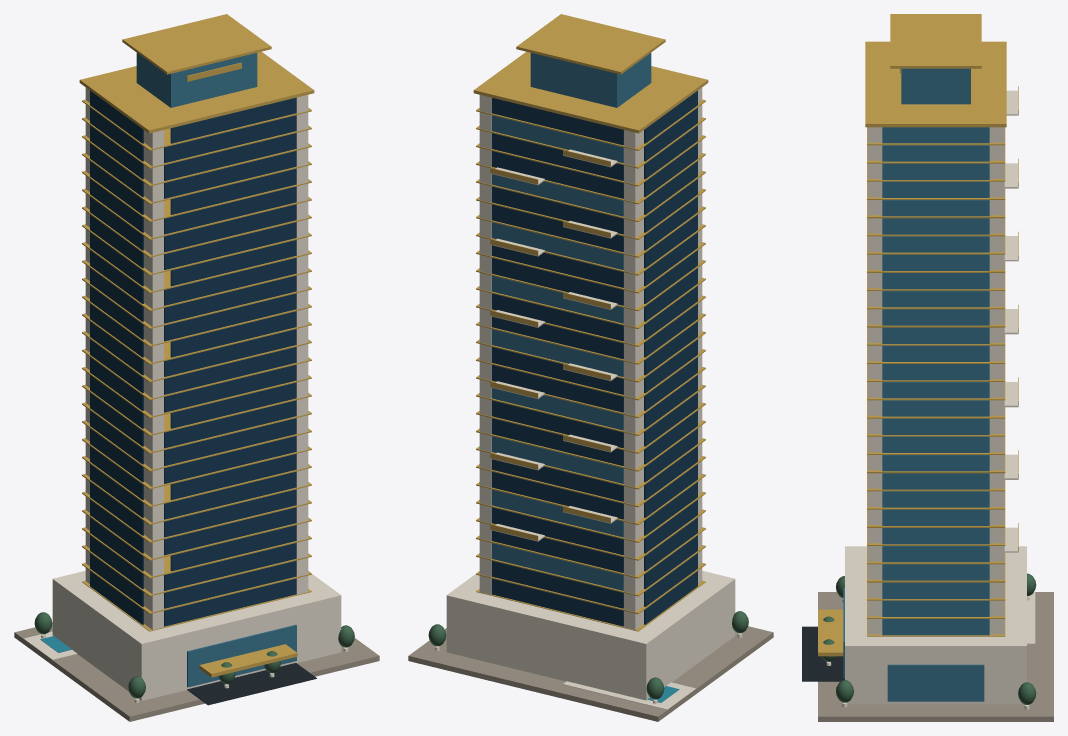
The model's file is fluencia-test-tower.glb.
3 renders of one model, left to right at view 1: azimuth 30°, elevation 25°; view 2: azimuth 150°, elevation 25°; view 3: azimuth 270°, elevation 25°, orthographic. The views are drawn at different scales.
Parts seen in each view (by area): view 1: Podium_Stone, Roof_Terrace, Site_Podium, Roof_Halo, Roof_Crown, Podium_Glass_North, Arrival_Court, North_Glass_7, North_Glass_11, North_Glass_18, North_Glass_21, North_Glass_22 (+79 smaller); view 2: Podium_Stone, Site_Podium, Roof_Terrace, Roof_Halo, Roof_Crown, South_Glass_1, South_Glass_3, South_Glass_2, South_Glass_28, South_Glass_7, South_Glass_5, South_Glass_11 (+65 smaller); view 3: Podium_Stone, Site_Podium, Roof_Terrace, Roof_Halo, Podium_Glass_East, Roof_Crown, East_Glass_1, East_Glass_2, East_Glass_3, East_Glass_4, East_Glass_5, East_Glass_6 (+67 smaller).
Boxes of the visible parts, box(x1,y1,x2,y2) form: Podium_Stone: box(52, 571, 341, 700); Roof_Terrace: box(79, 51, 314, 133); Site_Podium: box(14, 623, 379, 721); Roof_Halo: box(122, 14, 271, 74); Roof_Crown: box(136, 53, 257, 107); Podium_Glass_North: box(187, 624, 296, 687); Arrival_Court: box(187, 663, 316, 705); North_Glass_7: box(164, 471, 296, 519); North_Glass_11: box(164, 400, 296, 448); North_Glass_18: box(164, 275, 296, 323); North_Glass_21: box(164, 222, 296, 269); North_Glass_22: box(164, 204, 296, 252); Podium_Stone: box(446, 571, 735, 700); Site_Podium: box(408, 626, 773, 721); Roof_Terrace: box(473, 51, 708, 133); Roof_Halo: box(516, 14, 665, 74); Roof_Crown: box(530, 53, 651, 107); South_Glass_1: box(491, 578, 623, 626); South_Glass_3: box(491, 543, 623, 590); South_Glass_2: box(491, 561, 623, 608); South_Glass_28: box(491, 98, 623, 145); South_Glass_7: box(491, 471, 623, 519); South_Glass_5: box(491, 507, 623, 555); South_Glass_11: box(491, 400, 623, 448); Podium_Stone: box(845, 546, 1026, 704); Site_Podium: box(818, 592, 1053, 721); Roof_Terrace: box(865, 41, 1006, 127); Roof_Halo: box(890, 14, 981, 68); Podium_Glass_East: box(887, 664, 984, 701); Roof_Crown: box(901, 68, 970, 104); East_Glass_1: box(882, 619, 989, 635); East_Glass_2: box(882, 600, 989, 616); East_Glass_3: box(882, 582, 989, 598); East_Glass_4: box(882, 564, 989, 580); East_Glass_5: box(882, 546, 989, 562); East_Glass_6: box(882, 528, 989, 544).
Size of the model in its own units: 55 by 128 by 47.
